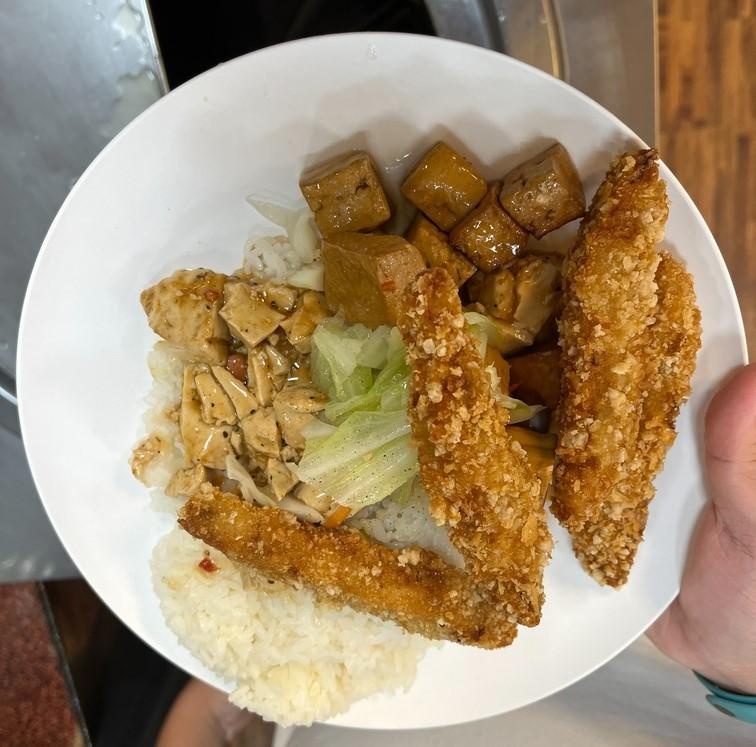big fried chicken leg: (12, 20, 756, 719)
big herbal chicken leg: (155, 479, 452, 720)
braised fish fillet: (300, 132, 584, 342), (301, 310, 515, 512), (143, 260, 320, 496)
braised pork: (173, 147, 708, 653)
